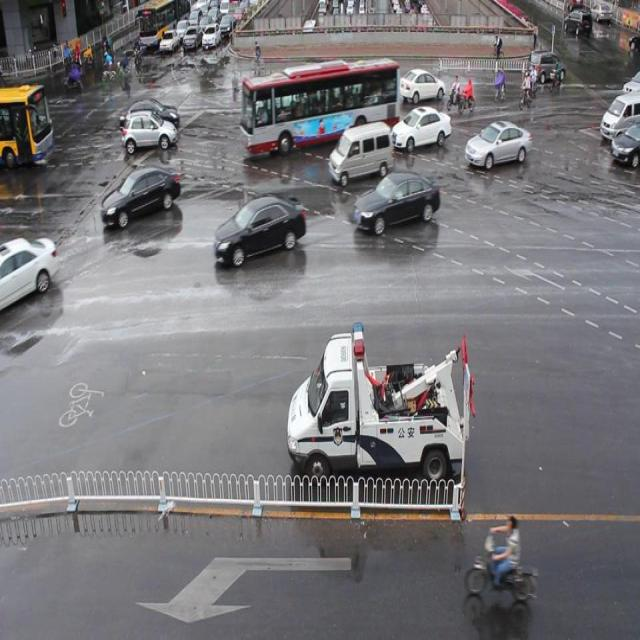bus: (286, 320, 475, 486)
car: (214, 192, 306, 269), (351, 170, 441, 234), (100, 166, 180, 226), (1, 234, 56, 312), (464, 118, 528, 170), (391, 107, 451, 149), (122, 112, 176, 150), (120, 101, 180, 130), (248, 78, 292, 116), (400, 68, 443, 103), (610, 124, 640, 168)
truck: (327, 121, 392, 186), (599, 95, 640, 141)
van: (238, 62, 400, 155)
